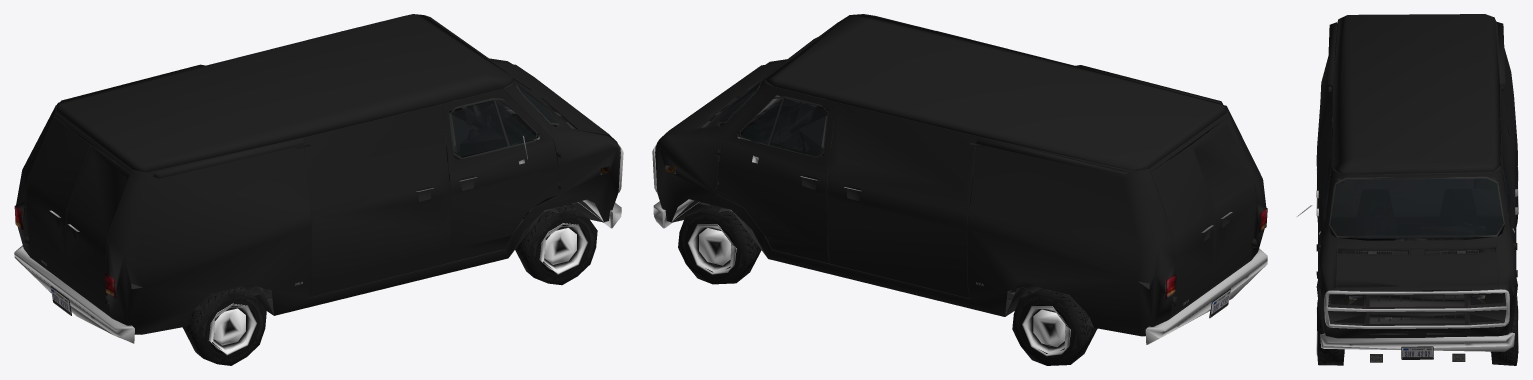
File: v_shvan_lod.glb
3 views of the same model, side by side, from view 1: azimuth 30°, elevation 25°; view 2: azimuth 150°, elevation 25°; view 3: azimuth 270°, elevation 25° (orthographic). The views are drawn at different scales.
Visible parts, largest first — view 1: Shvan92_Body_Shvan92_bodymat_0, Shvan92_WheelStock_RL_RB1c_Tire_1k_0, Shvan92_WheelStock_FR_RB1c_Tire_1k_0, Shvan92_Interior_UCB_Interiors_1_0, Shvan92_Bottom_UCB_BOTTOM_0, Shvan92_Glass_Passanger_UCB_Lights_and_Glass_Transperent_0, Shvan92_Bumper_rear_UCB_BOTTOM_0, Shvan92_Hood_Shvan92_bodymat_0, Shvan92_Body_glass_UCB_Lights_and_Glass_Transperent_0; view 2: Shvan92_Body_Shvan92_bodymat_0, Shvan92_WheelStock_RL_RB1c_Tire_1k_0, Shvan92_WheelStock_FL_RB1c_Tire_1k_0, Shvan92_Interior_UCB_Interiors_1_0, Shvan92_Glass_Driver_UCB_Lights_and_Glass_Transperent_0, Shvan92_Bumper_rear_UCB_BOTTOM_0, Shvan92_Bottom_UCB_BOTTOM_0, Shvan92_Hood_Shvan92_bodymat_0, Shvan92_Body_glass_UCB_Lights_and_Glass_Transperent_0; view 3: Shvan92_Body_Shvan92_bodymat_0, Shvan92_Interior_UCB_Interiors_1_0, Shvan92_Windshield_UCB_Lights_and_Glass_Transperent_0, Shvan92_Bottom_UCB_BOTTOM_0, Shvan92_Hood_Shvan92_bodymat_0, Shvan92_Bumper_front_UCB_BOTTOM_0, Shvan92_WheelStock_FR_RB1c_Tire_1k_0, Shvan92_WheelStock_FL_RB1c_Tire_1k_0, Shvan92_Numberplate_front_Numberplates_Misk_U_0.
Part boxes in pixels (x1,y1,x2,y2): Shvan92_Body_Shvan92_bodymat_0: (16,14,620,334); Shvan92_WheelStock_RL_RB1c_Tire_1k_0: (182,286,266,365); Shvan92_WheelStock_FR_RB1c_Tire_1k_0: (515,203,597,285); Shvan92_Interior_UCB_Interiors_1_0: (59,93,557,310); Shvan92_Bottom_UCB_BOTTOM_0: (49,79,623,326); Shvan92_Glass_Passanger_UCB_Lights_and_Glass_Transperent_0: (451,100,507,156); Shvan92_Bumper_rear_UCB_BOTTOM_0: (14,245,134,343); Shvan92_Hood_Shvan92_bodymat_0: (492,61,609,134); Shvan92_Body_glass_UCB_Lights_and_Glass_Transperent_0: (495,100,537,145); Shvan92_Body_Shvan92_bodymat_0: (655,14,1266,336); Shvan92_WheelStock_RL_RB1c_Tire_1k_0: (1012,288,1097,365); Shvan92_WheelStock_FL_RB1c_Tire_1k_0: (678,204,761,284); Shvan92_Interior_UCB_Interiors_1_0: (718,93,1223,298); Shvan92_Glass_Driver_UCB_Lights_and_Glass_Transperent_0: (769,98,826,155); Shvan92_Bumper_rear_UCB_BOTTOM_0: (1145,248,1267,344); Shvan92_Bottom_UCB_BOTTOM_0: (652,80,1232,327); Shvan92_Hood_Shvan92_bodymat_0: (660,62,782,138); Shvan92_Body_glass_UCB_Lights_and_Glass_Transperent_0: (739,98,782,144); Shvan92_Body_Shvan92_bodymat_0: (1316,14,1517,338); Shvan92_Interior_UCB_Interiors_1_0: (1324,97,1509,291); Shvan92_Windshield_UCB_Lights_and_Glass_Transperent_0: (1330,178,1503,238); Shvan92_Bottom_UCB_BOTTOM_0: (1297,152,1517,362); Shvan92_Hood_Shvan92_bodymat_0: (1336,253,1498,291); Shvan92_Bumper_front_UCB_BOTTOM_0: (1320,332,1514,359); Shvan92_WheelStock_FR_RB1c_Tire_1k_0: (1316,300,1344,365); Shvan92_WheelStock_FL_RB1c_Tire_1k_0: (1490,296,1518,365); Shvan92_Numberplate_front_Numberplates_Misk_U_0: (1402,347,1432,359).
Size of the model in its own units: 4.9 by 1.91 by 2.12.
Materials: 8 (7 with a texture image).
